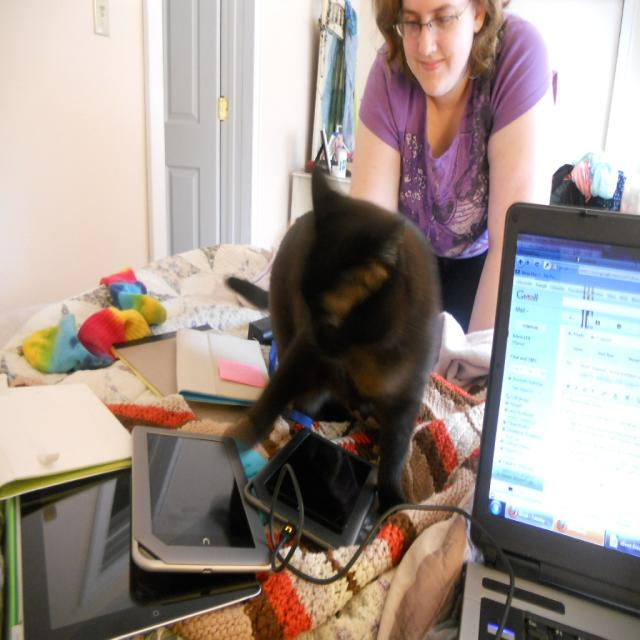Cat: (222, 154, 446, 524)
